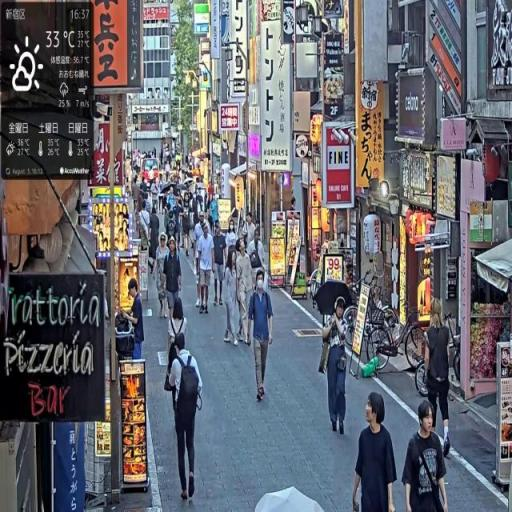person: (165, 339, 204, 505), (352, 388, 400, 512), (402, 398, 449, 512), (425, 296, 456, 463), (320, 292, 352, 438), (248, 267, 275, 404), (236, 238, 256, 345), (164, 239, 185, 325), (197, 221, 215, 312), (154, 230, 171, 319), (213, 220, 229, 307), (182, 194, 194, 258)
